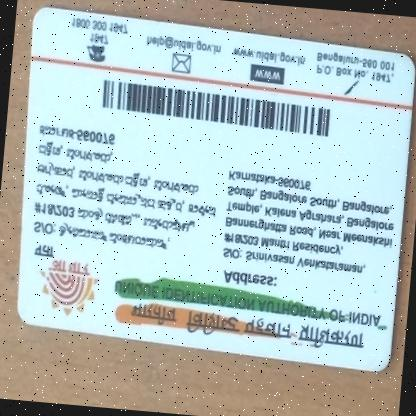aadhaar_card: (11, 14, 415, 361)
